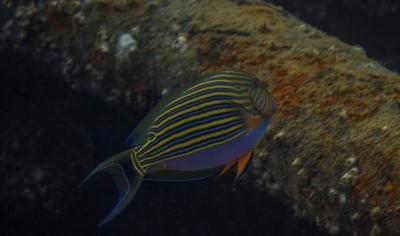Acanthuridae -Surgeonfishes-: (75, 67, 277, 228)
